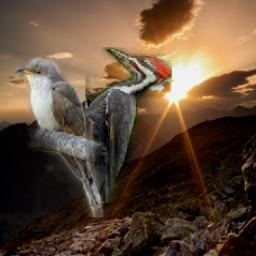Cuckoo: (16, 57, 104, 217)
Woodpecker: (86, 48, 173, 204)
